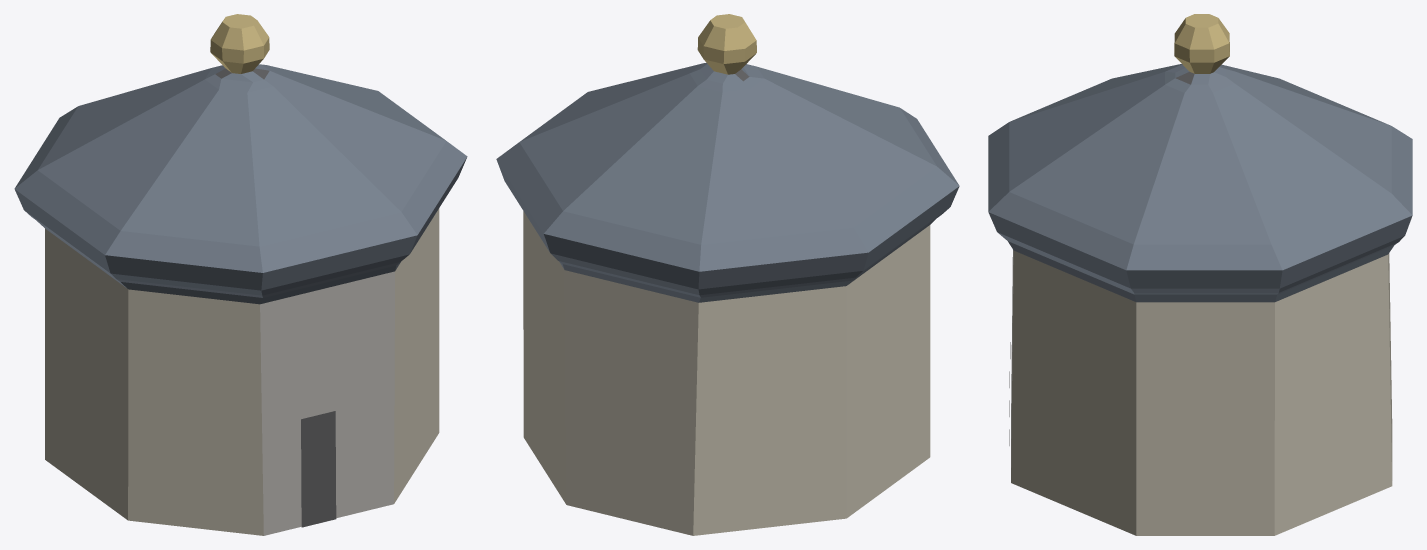
The model's file is loin.glb.
3 renders of one model, left to right at view 1: azimuth 30°, elevation 25°; view 2: azimuth 150°, elevation 25°; view 3: azimuth 270°, elevation 25°, orthographic.
Visible parts, largest first — view 1: loin; view 2: loin; view 3: loin.
Part boxes in pixels (x1=…): loin: x1=14, y1=14, x2=467, y2=535; loin: x1=496, y1=14, x2=959, y2=535; loin: x1=988, y1=14, x2=1412, y2=535.
Size of the model in its own units: 0.8702 by 0.9546 by 0.8483.
